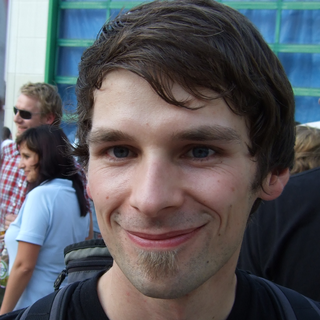eye: (172, 139, 227, 166), (98, 142, 141, 164)
